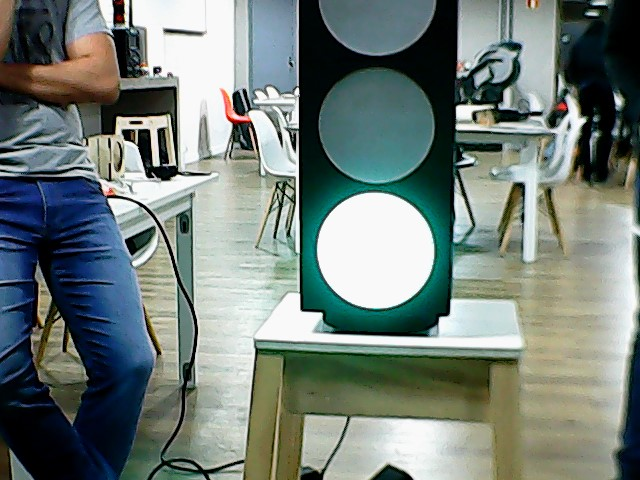verde: (292, 1, 463, 321)
